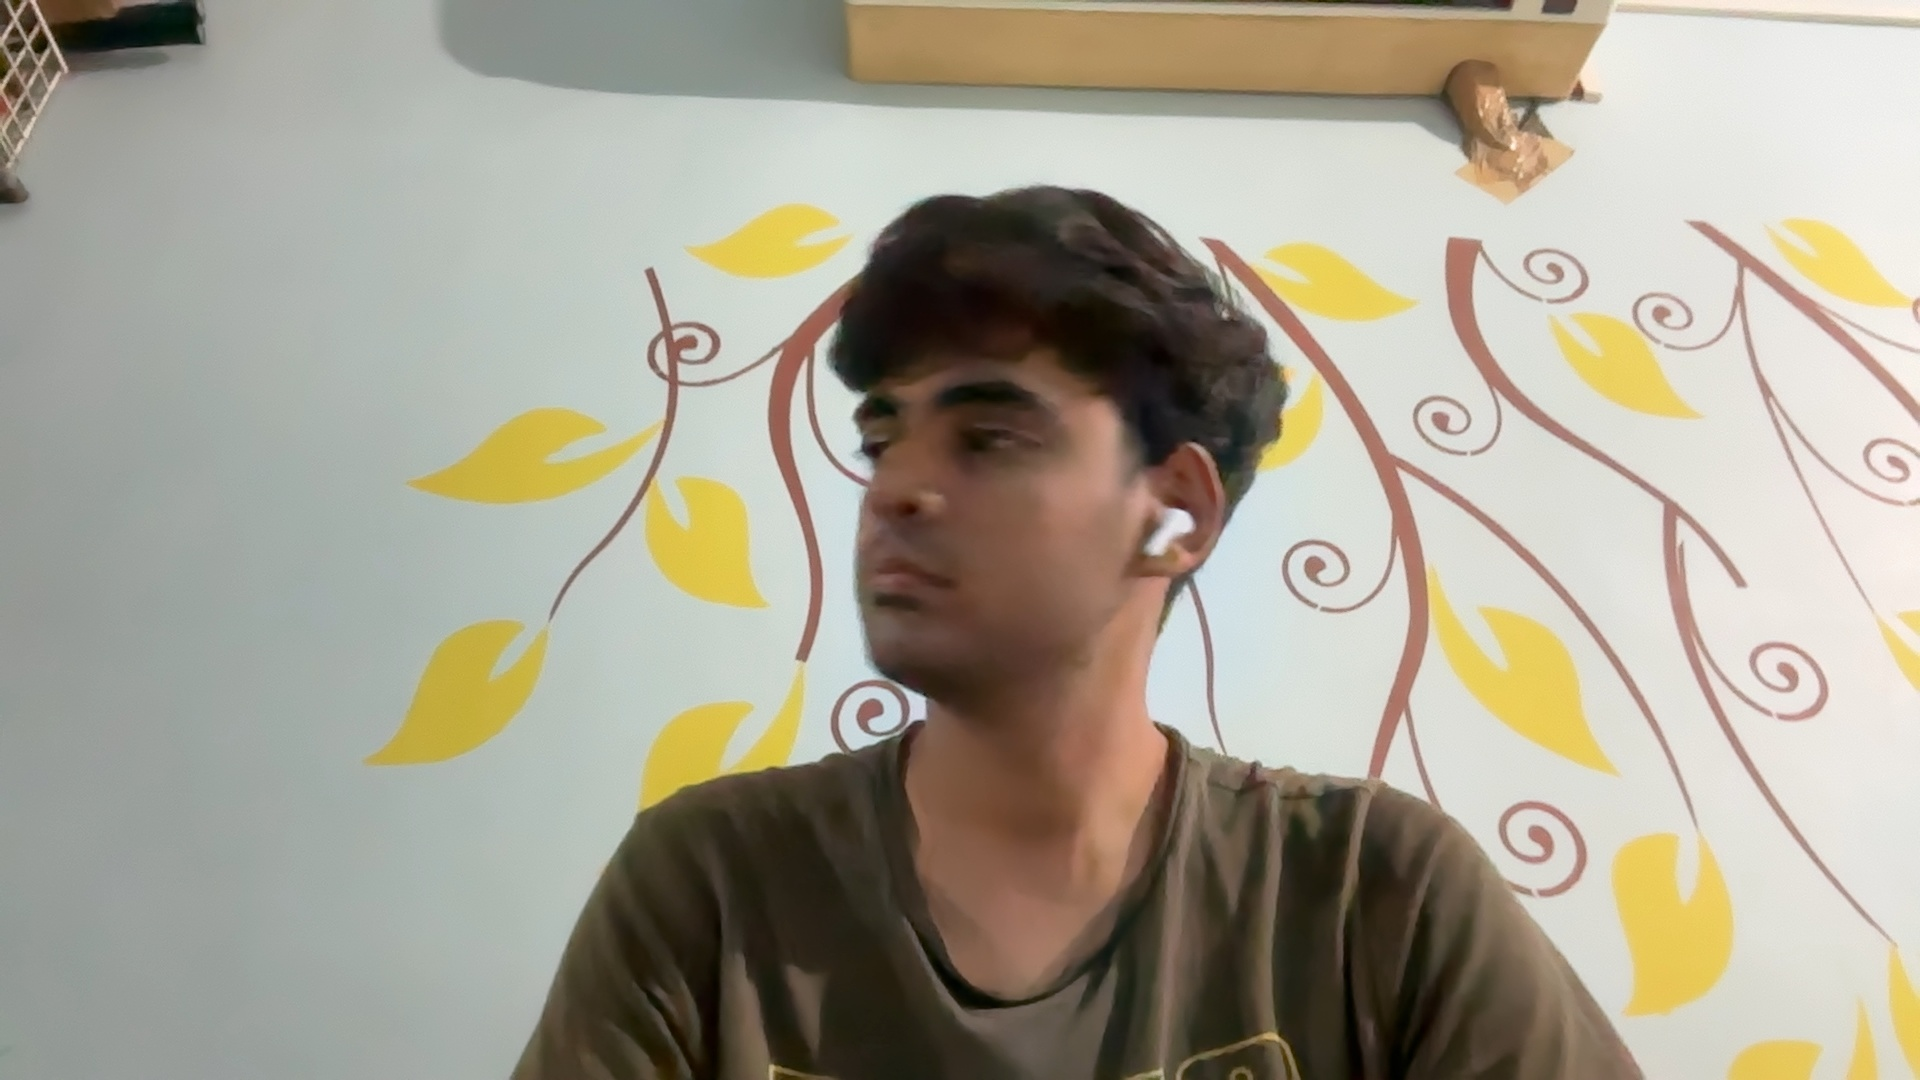No Mask: (828, 470, 1112, 703)
